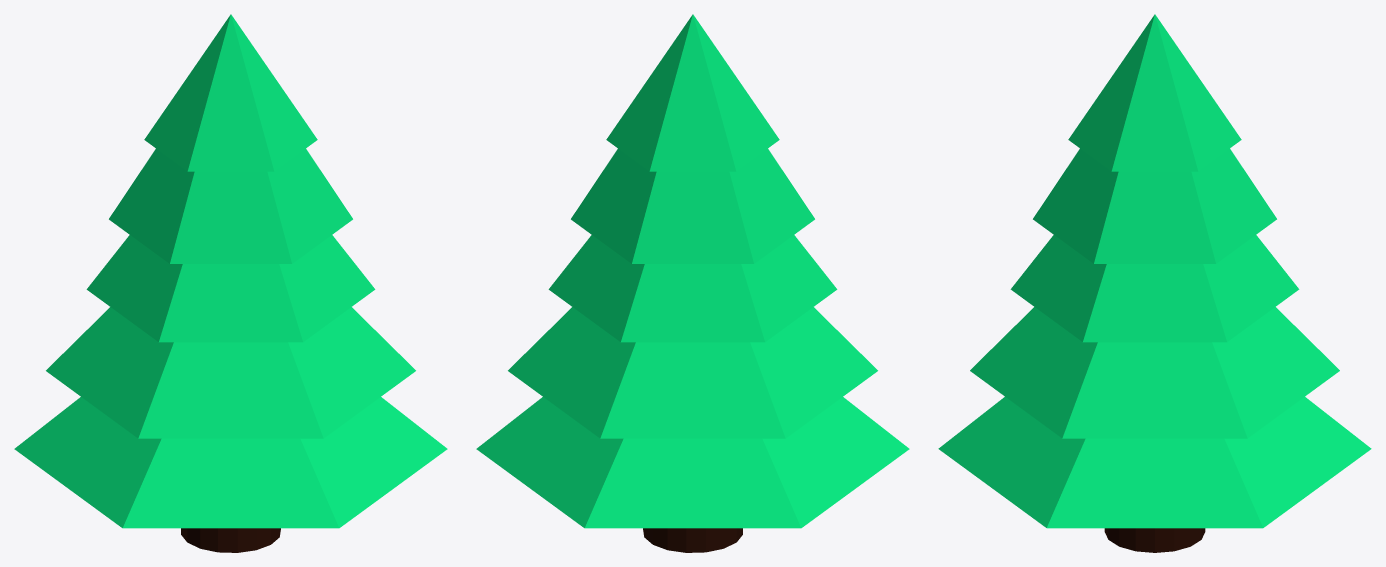
File: xmas_tree.glb
The picture shows the model from 3 angles, left to right: view 1: azimuth 30°, elevation 25°; view 2: azimuth 150°, elevation 25°; view 3: azimuth 270°, elevation 25°; orthographic projection.
Visible parts, largest first — view 1: Cone, Cone.001, Cone.002, Cone.003, Cone.004, Cylinder; view 2: Cone, Cone.001, Cone.002, Cone.003, Cone.004, Cylinder; view 3: Cone, Cone.001, Cone.002, Cone.003, Cone.004, Cylinder.
Part boxes in pixels (box(x1,y1,x2,y2)): Cone: box(14, 397, 447, 528); Cone.001: box(46, 307, 415, 438); Cone.002: box(86, 235, 375, 342); Cone.003: box(109, 148, 352, 263); Cone.004: box(144, 14, 317, 171); Cylinder: box(181, 528, 280, 552); Cone: box(476, 397, 909, 528); Cone.001: box(508, 307, 877, 438); Cone.002: box(548, 235, 837, 342); Cone.003: box(571, 148, 814, 263); Cone.004: box(606, 14, 779, 171); Cylinder: box(643, 528, 742, 552); Cone: box(938, 397, 1371, 528); Cone.001: box(970, 307, 1339, 438); Cone.002: box(1010, 235, 1299, 342); Cone.003: box(1033, 148, 1276, 263); Cone.004: box(1068, 14, 1241, 171); Cylinder: box(1104, 528, 1205, 552).
Size of the model in its own units: 7.45 by 11.33 by 8.6.
